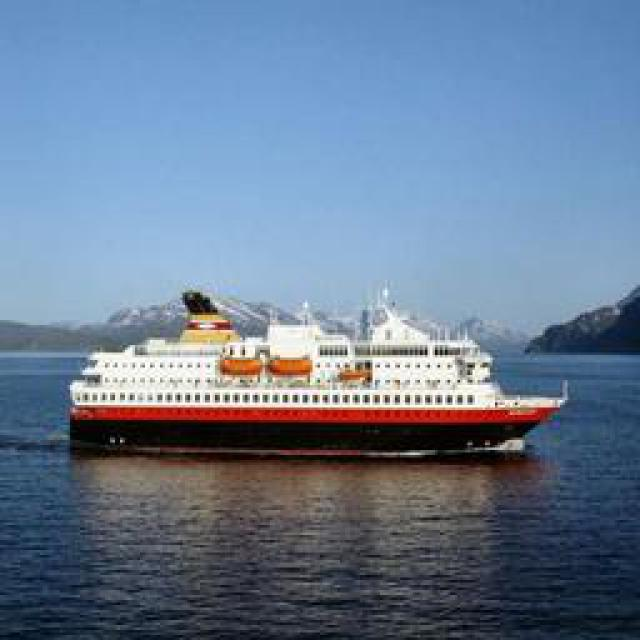Ship: (72, 287, 552, 460)
